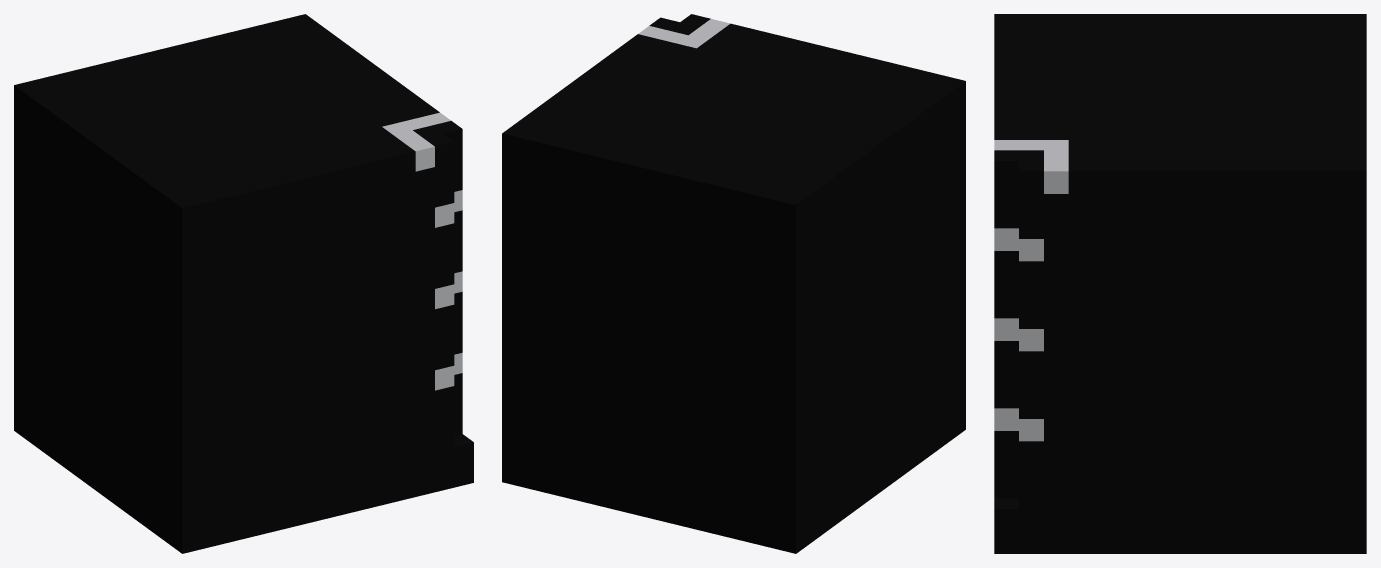
The model's file is dungeon_d_a_outer_wall_corner_d.obj.
3 renders of one model, left to right at view 1: azimuth 30°, elevation 25°; view 2: azimuth 150°, elevation 25°; view 3: azimuth 270°, elevation 25°, orthographic. The views are drawn at different scales.
Bounding box in the file's own units: 1.5 × 1.7 × 1.5.
Materials: 1 (1 with a texture image).
